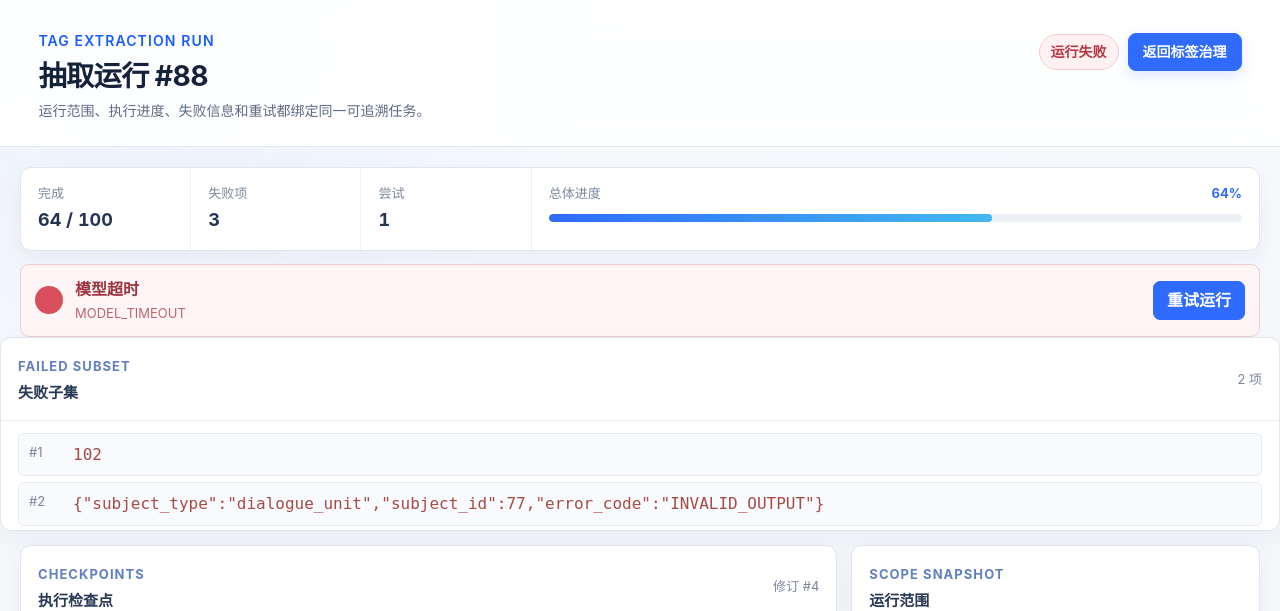
Test: TagRunDetailPage › retries a failed run and exposes recoverable loading errors
Expected: the text "模型超时" is shown, [75, 279, 139, 299]
Click the button "重试运行".
click(1199, 300)  # box [1153, 281, 1245, 320]
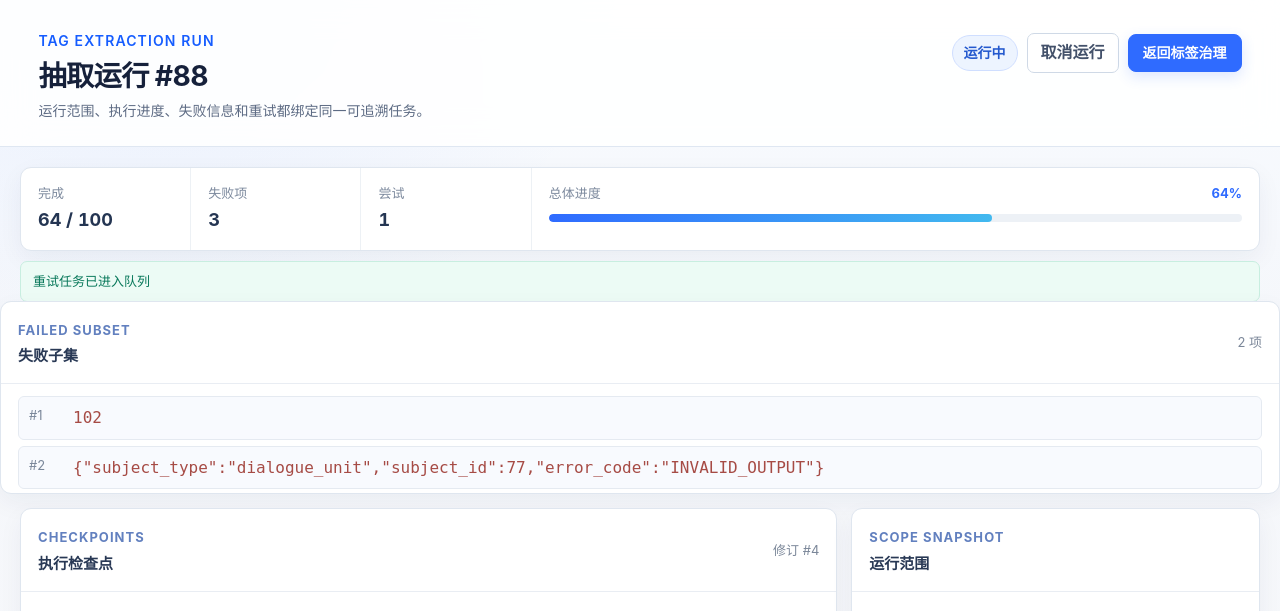
Expected: the text "重试任务已进入队列" is shown, [20, 261, 1260, 302]
